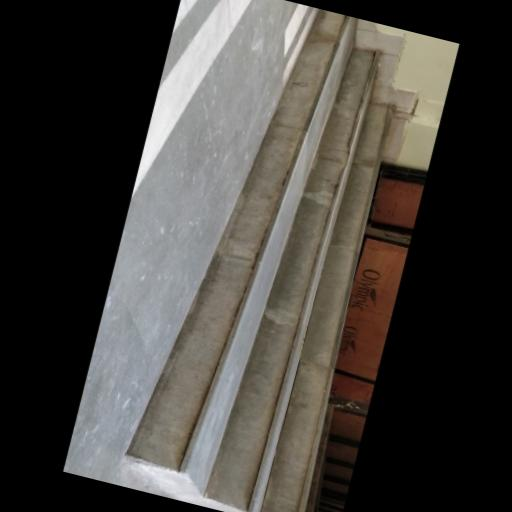stairs: (126, 9, 388, 511)
